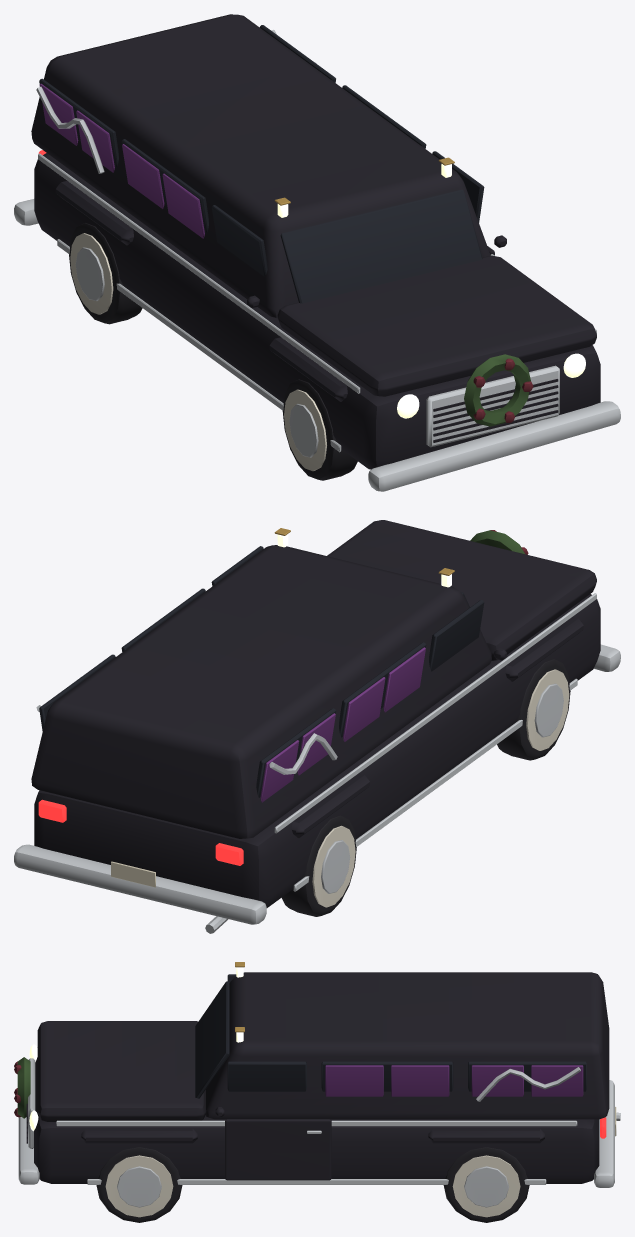
Rendered from veh_hearse.glb.
3 views of the same model, one above another, from view 1: azimuth 30°, elevation 25°; view 2: azimuth 150°, elevation 25°; view 3: azimuth 270°, elevation 25° (orthographic). The views are drawn at different scales.
Visible parts, largest first — view 1: veh_hearse, wheel_FR, wheel_RR, glow; view 2: veh_hearse, wheel_RR, wheel_FR, glow; view 3: veh_hearse, door, wheel_FL, wheel_RL, glow.
Part boxes in pixels (left/top/right/bottom): veh_hearse: left=14, top=14, right=620, bottom=491; wheel_FR: left=282, top=379, right=357, bottom=480; wheel_RR: left=69, top=223, right=142, bottom=324; glow: left=38, top=150, right=585, bottom=418; veh_hearse: left=14, top=520, right=620, bottom=933; wheel_RR: left=281, top=815, right=356, bottom=916; wheel_FR: left=497, top=659, right=570, bottom=760; glow: left=38, top=534, right=451, bottom=865; veh_hearse: left=14, top=962, right=620, bottom=1187; door: left=225, top=1119, right=331, bottom=1180; wheel_FL: left=96, top=1147, right=182, bottom=1222; wheel_RL: left=443, top=1147, right=529, bottom=1222; glow: left=29, top=967, right=606, bottom=1138.
Bounding box in the file's own units: 1.95 × 1.61 × 4.9.
